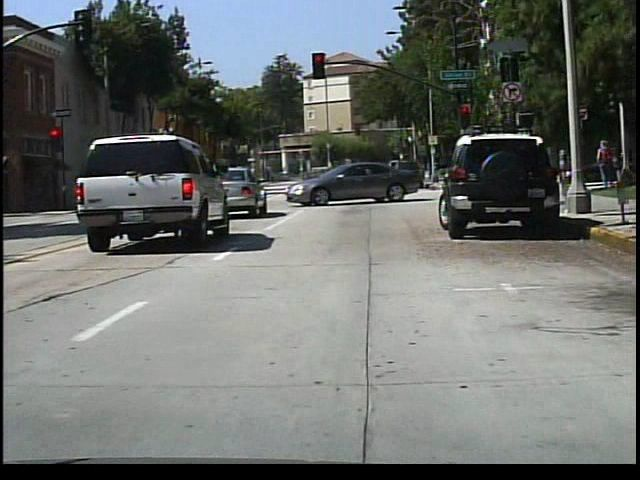person: (594, 137, 615, 192), (322, 158, 347, 200), (457, 150, 474, 187)
